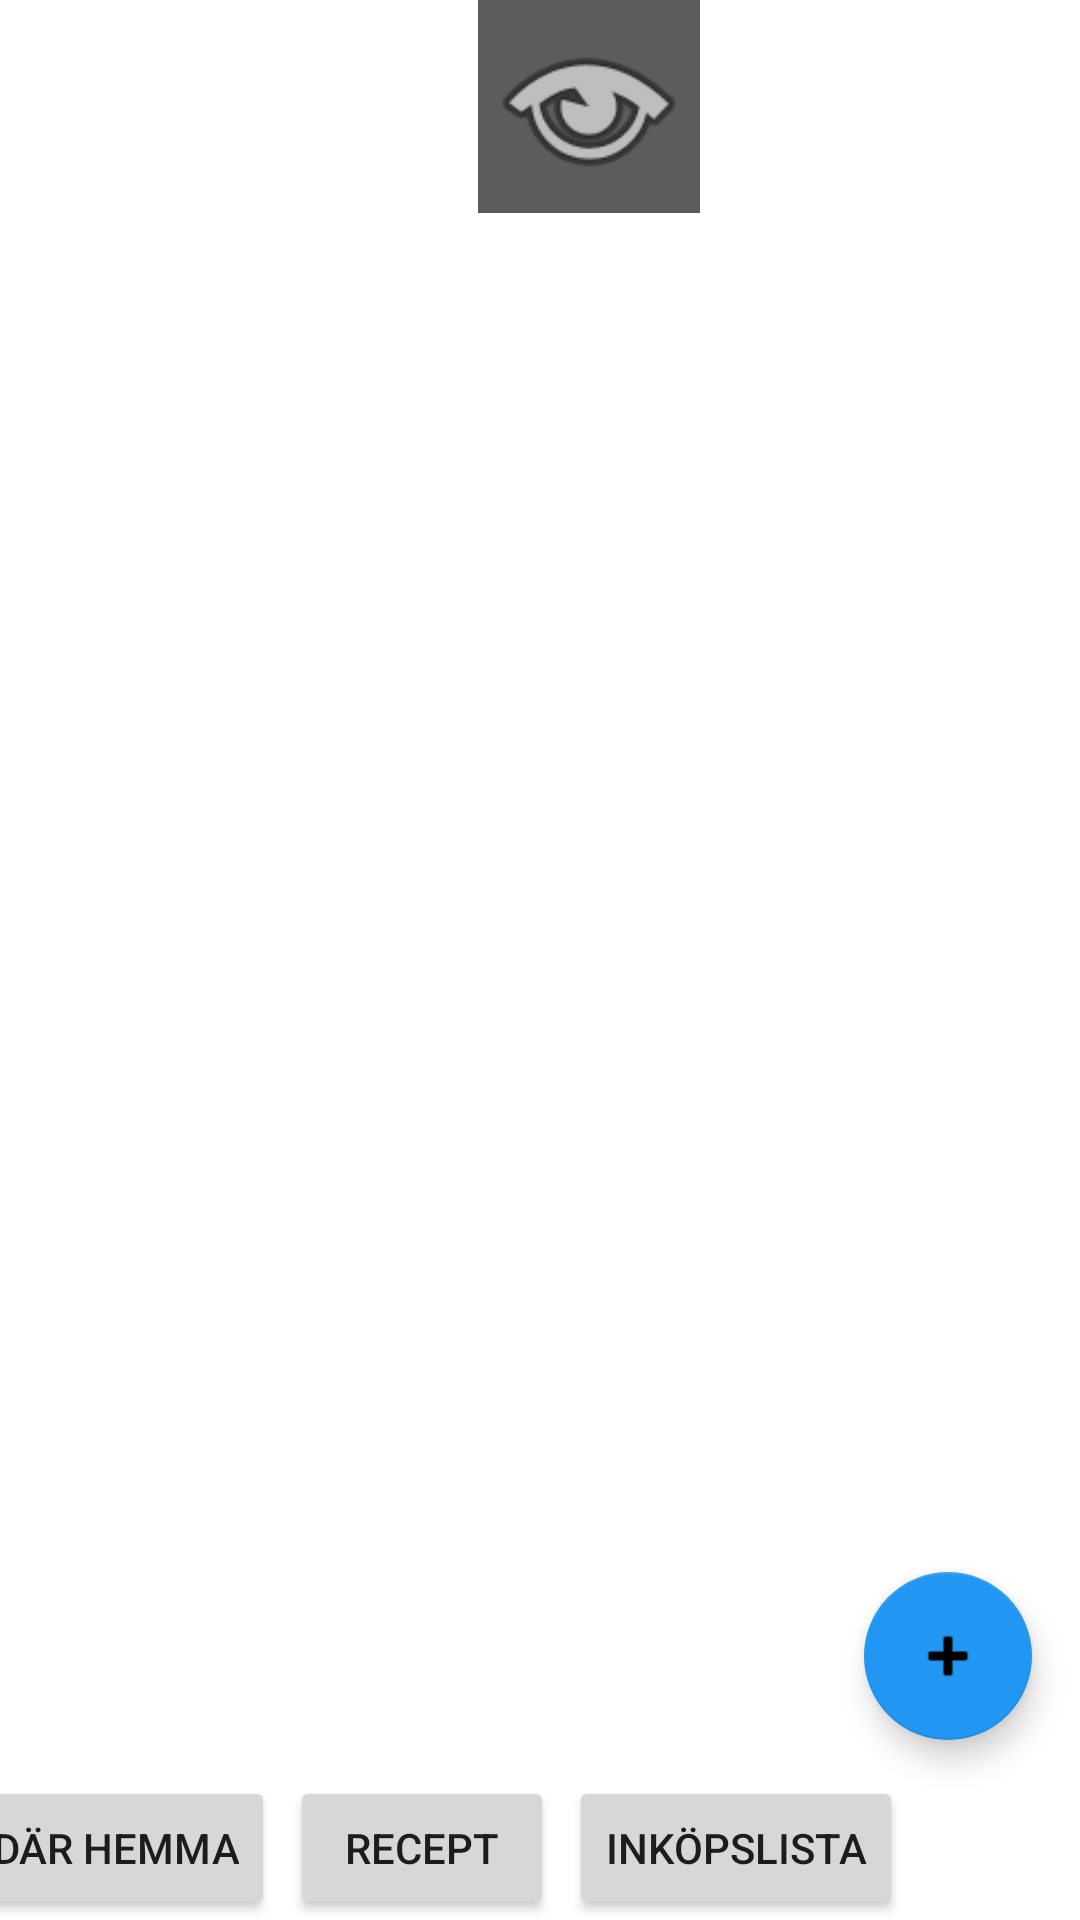

Icon bounding boxes for this 1080px x 1920px phone screenshot, format (x1, y1, x2, y2):
add: (864, 1572, 1032, 1740)
